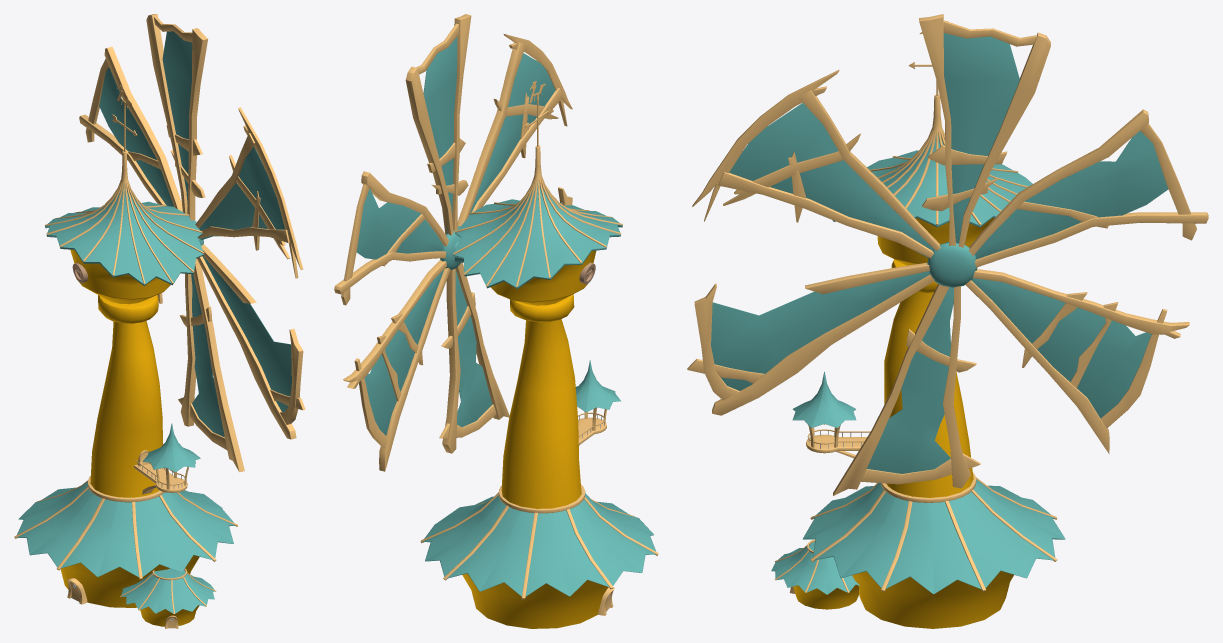
Rendered from fengche001.gltf.
3 views of the same model, side by side, from view 1: azimuth 30°, elevation 25°; view 2: azimuth 150°, elevation 25°; view 3: azimuth 270°, elevation 25° (orthographic). The views are drawn at different scales.
Visible parts, largest first — view 1: node_dao158_-70448, node_dao212_-70450; view 2: node_dao158_-70448, node_dao212_-70450; view 3: node_dao212_-70450, node_dao158_-70448.
Boxes of the visible parts, box(x1,y1,x2,y2) form: node_dao158_-70448: box(14, 85, 237, 628); node_dao212_-70450: box(79, 14, 305, 472); node_dao158_-70448: box(420, 81, 658, 628); node_dao212_-70450: box(334, 14, 572, 471); node_dao212_-70450: box(687, 14, 1208, 495); node_dao158_-70448: box(771, 21, 1065, 628).
Size of the model in its own units: 5.03 by 13.29 by 10.06.
